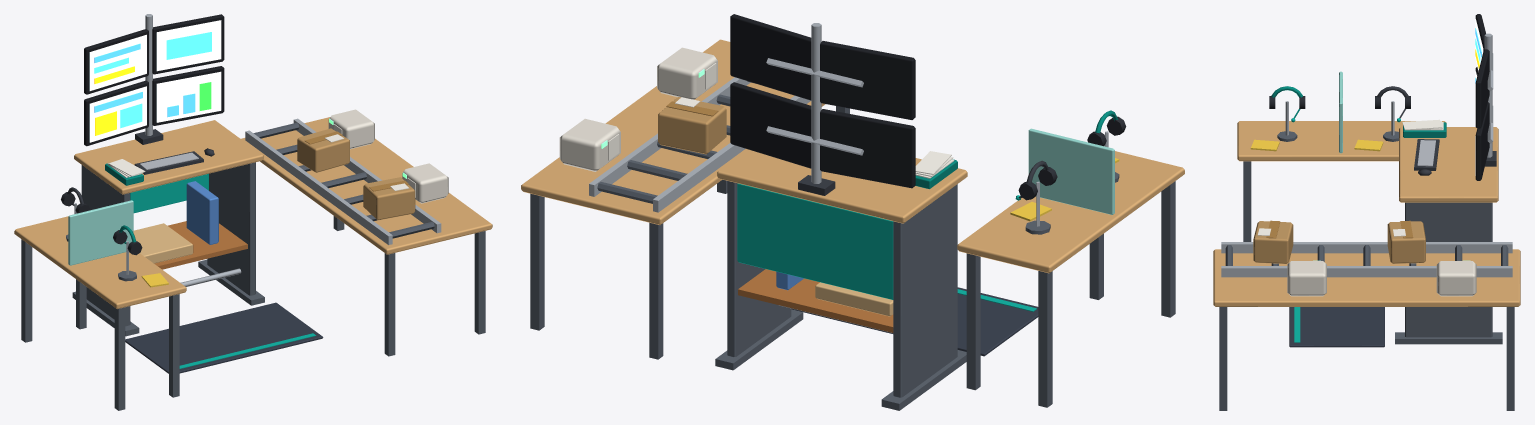
Rendered from station_intake_2.glb.
3 renders of one model, left to right at view 1: azimuth 30°, elevation 25°; view 2: azimuth 150°, elevation 25°; view 3: azimuth 270°, elevation 25°, orthographic. The views are drawn at different scales.
Parts seen in each view (by area): view 1: station_intake_2; view 2: station_intake_2; view 3: station_intake_2.
Boxes of the visible parts, left/top/right/bottom form: station_intake_2: left=14, top=14, right=492, bottom=410; station_intake_2: left=521, top=14, right=1184, bottom=410; station_intake_2: left=1213, top=14, right=1520, bottom=410.
Bounding box in the file's own units: 2.15 × 1.52 × 1.54.
